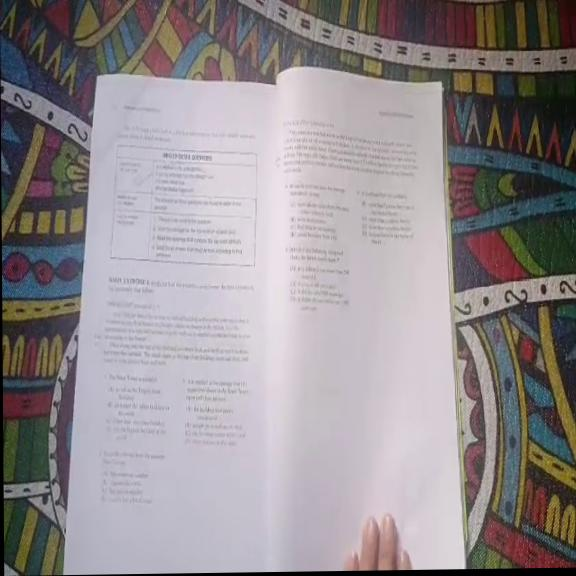Kertas: (63, 67, 279, 566), (267, 61, 460, 570)
